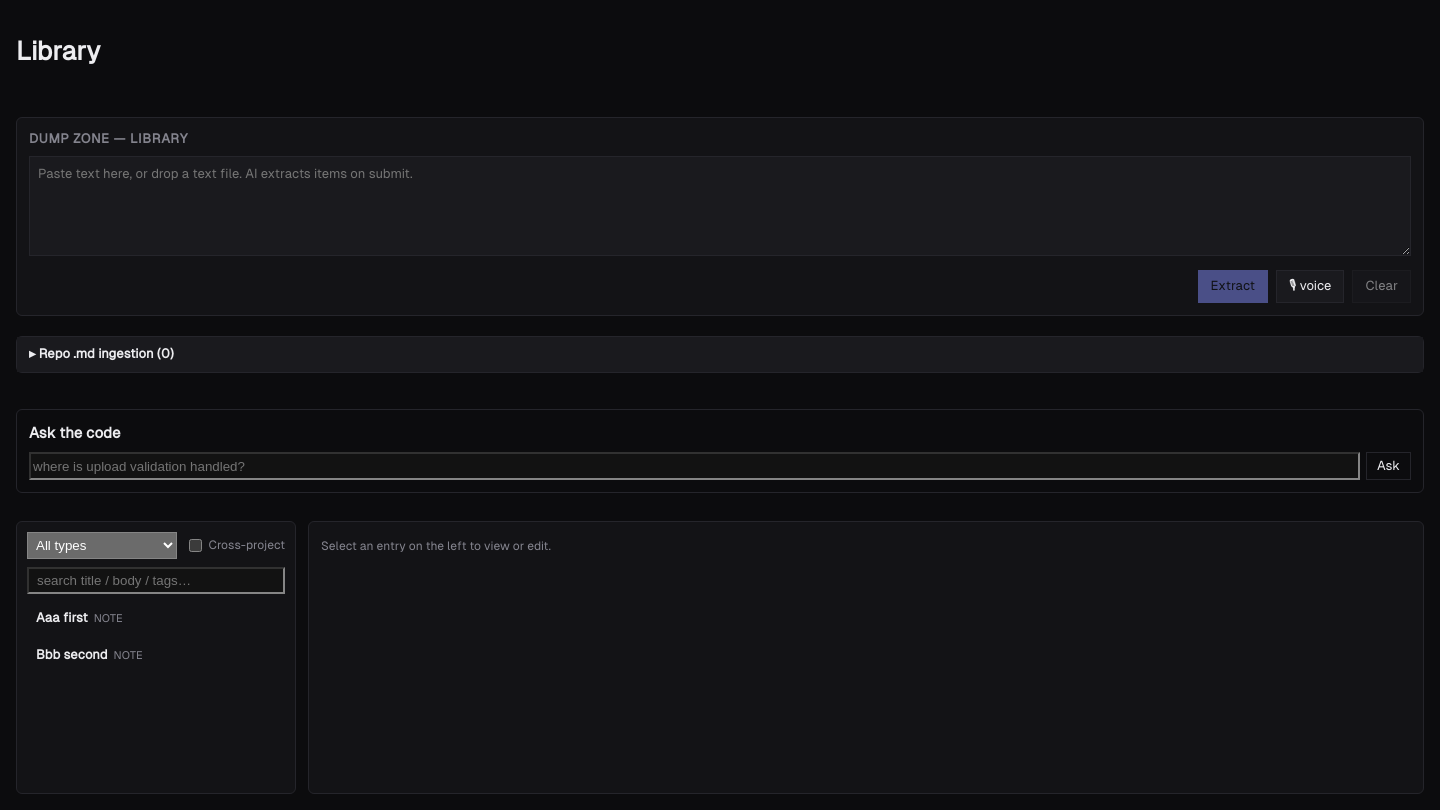
Scenario: Library pin surfacing (Phase 6b — pin scope = library sidebar) › adding a pin via the entry editor pushes the entry to the top
The width and height of the screenshot is (1440, 810).
Click the list item with test id "library-entry-row-e2": click(89, 655) [36,647,143,662]
(page scrolled)
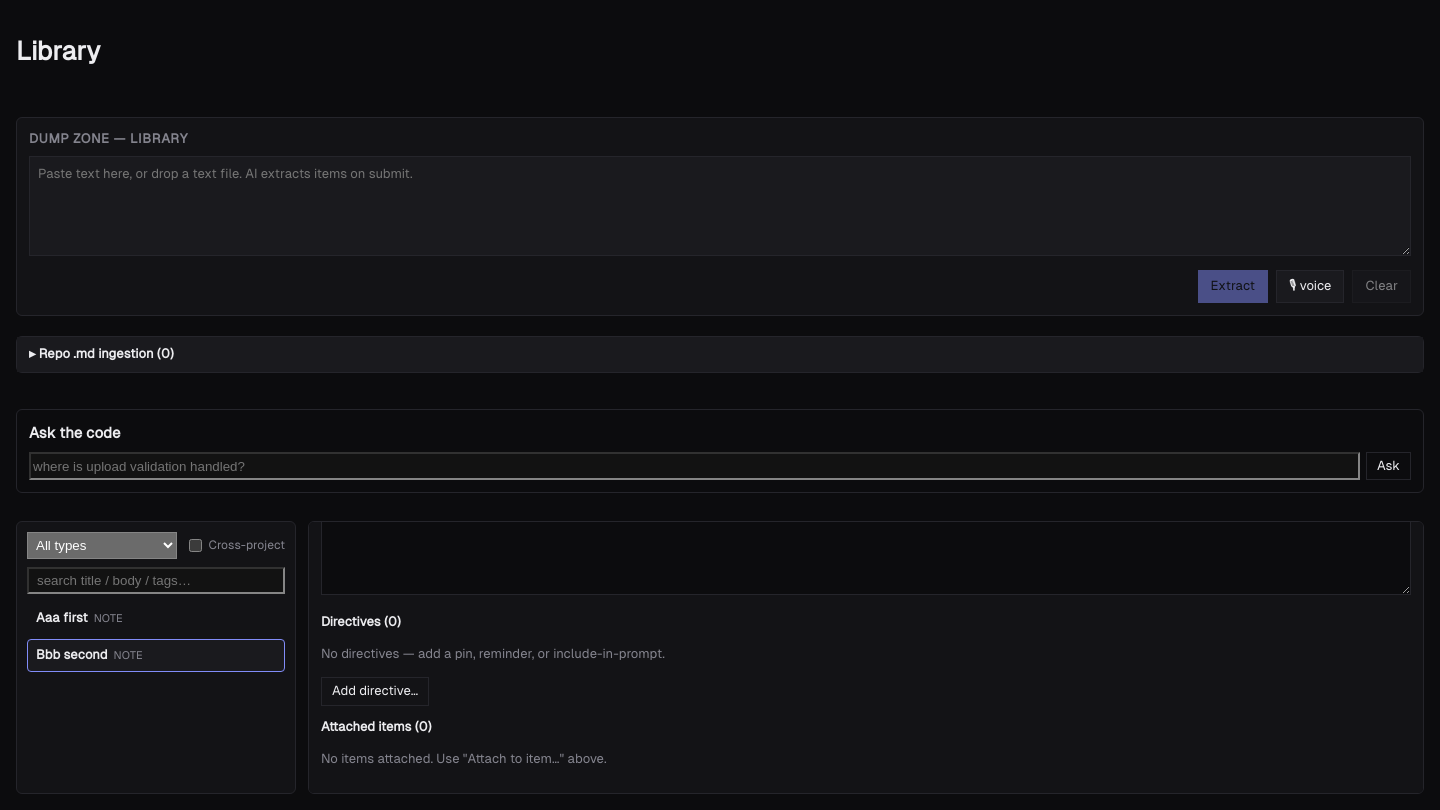
Click the button with test id "library-directive-add": click(375, 691) [321,677,429,706]
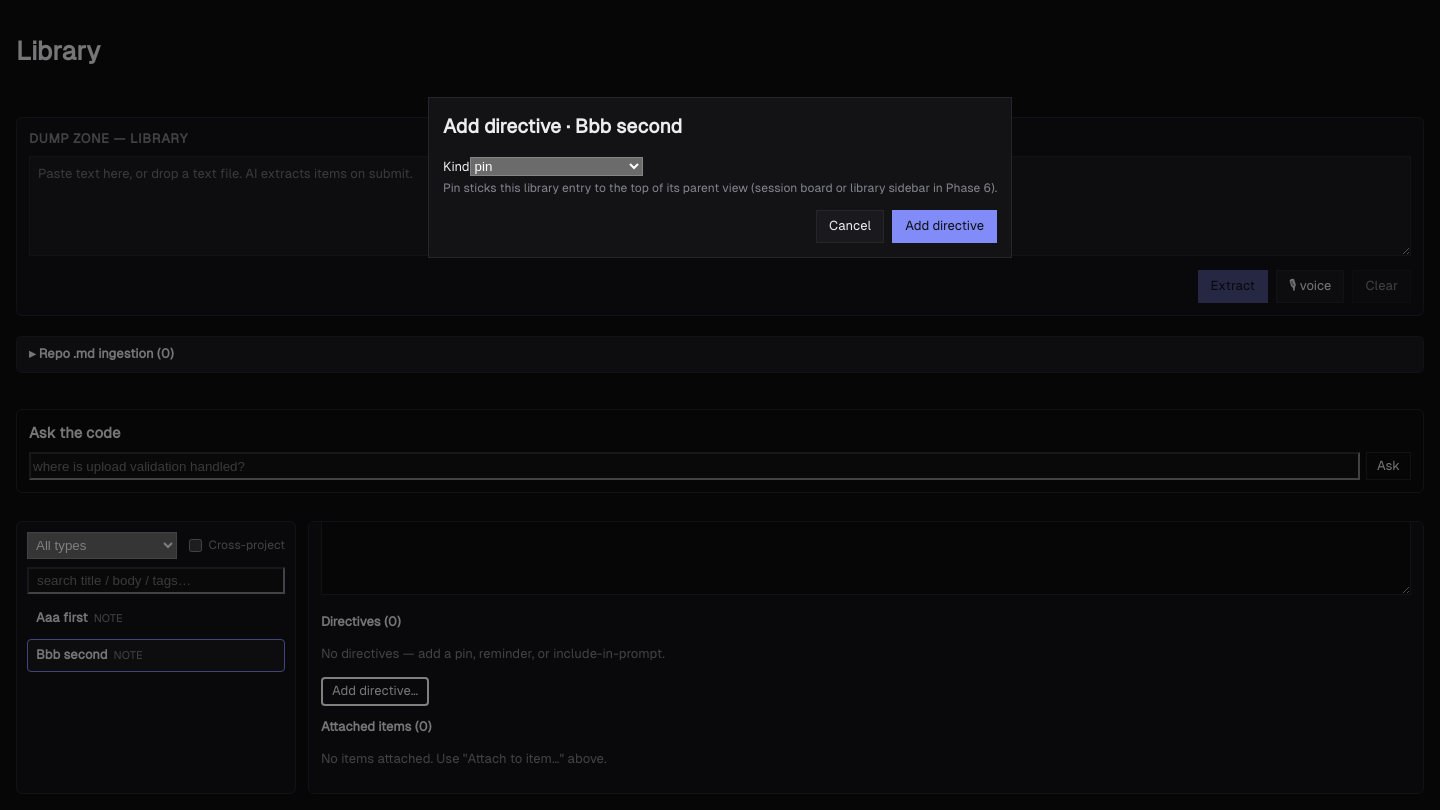
Click the button with test id "directive-save": click(945, 226) [892,210,997,243]
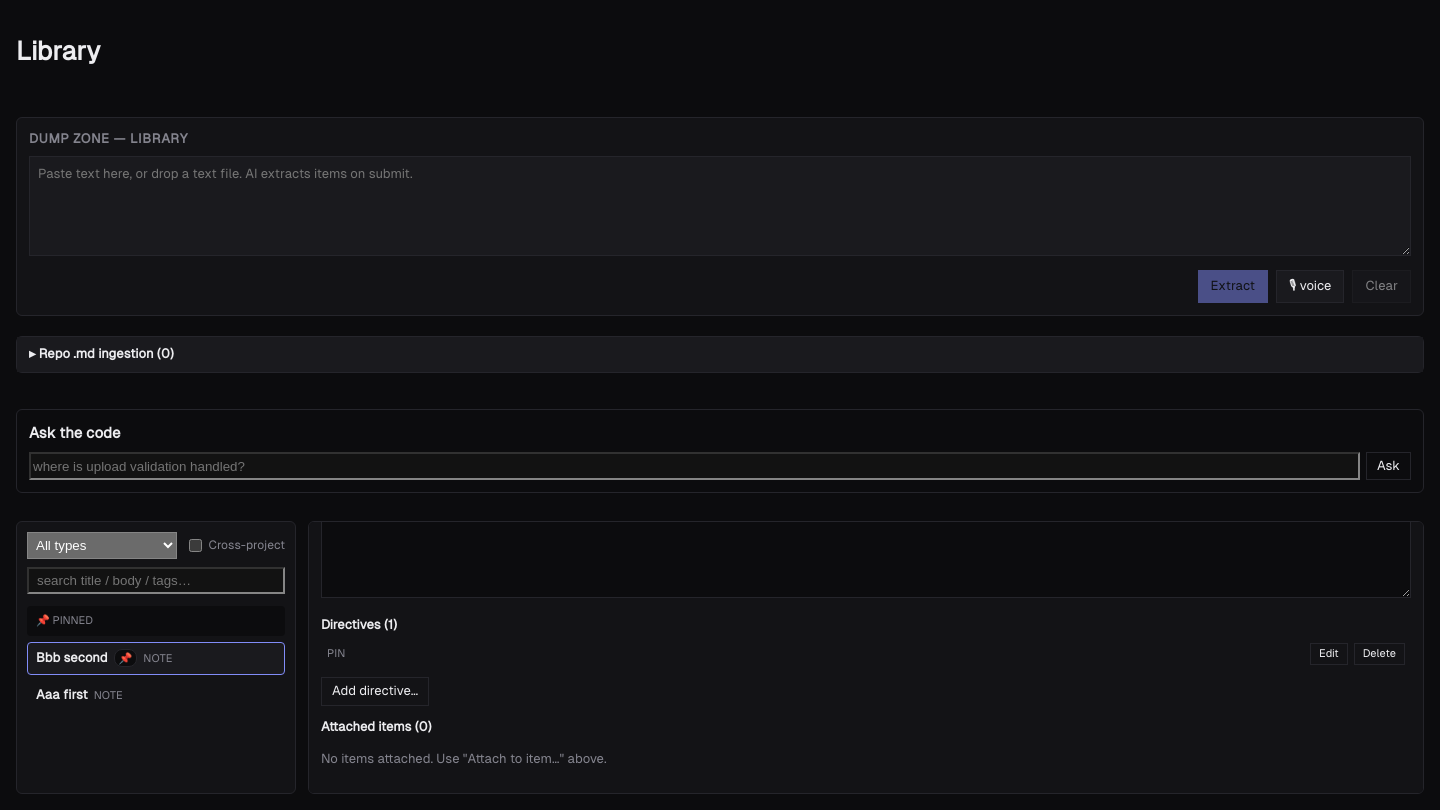
Check: the list item with test id "library-pinned-divider" is shown, box [27,606,285,636]
